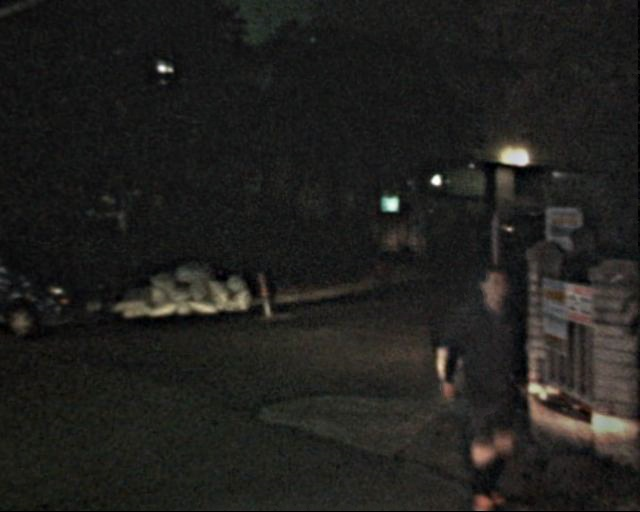person: (434, 258, 534, 492)
